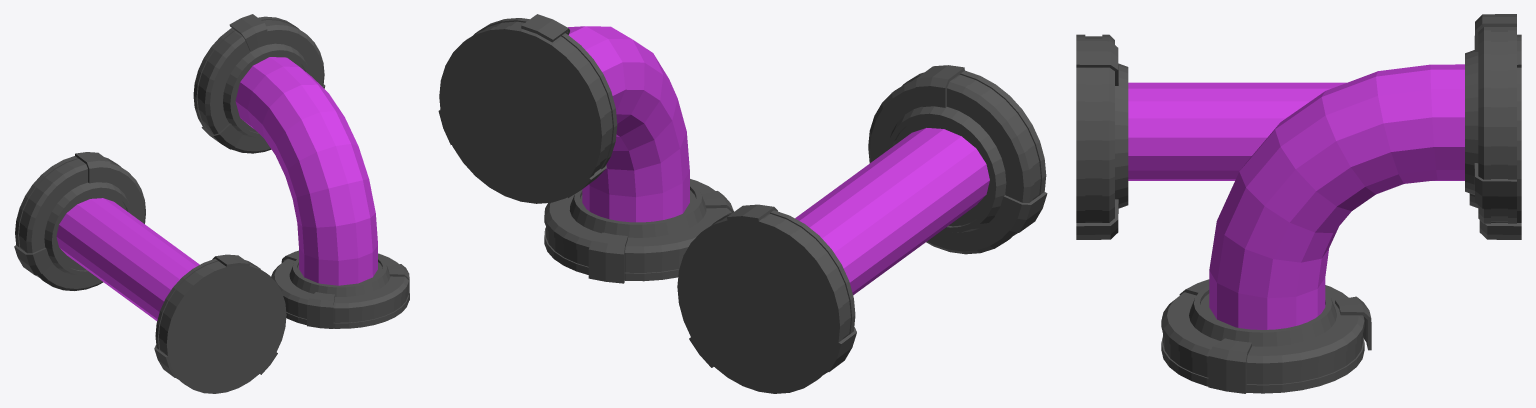
Rendered from EnergyColumn.fbx.
3 views of the same model, side by side, from view 1: azimuth 30°, elevation 25°; view 2: azimuth 150°, elevation 25°; view 3: azimuth 270°, elevation 25° (orthographic). The views are drawn at different scales.
Visible parts, largest first — view 1: 平面.017, 柱体.003; view 2: 柱体.003, 平面.017; view 3: 平面.017, 柱体.003.
Boxes of the visible parts, <box> form: 平面.017: <box>193,14,409,328</box>; 柱体.003: <box>14,152,286,393</box>; 柱体.003: <box>677,65,1047,393</box>; 平面.017: <box>438,14,733,283</box>; 平面.017: <box>1161,14,1516,393</box>; 柱体.003: <box>1076,34,1521,239</box>.
Bounding box in the file's own units: 1573 × 1136 × 1387.
